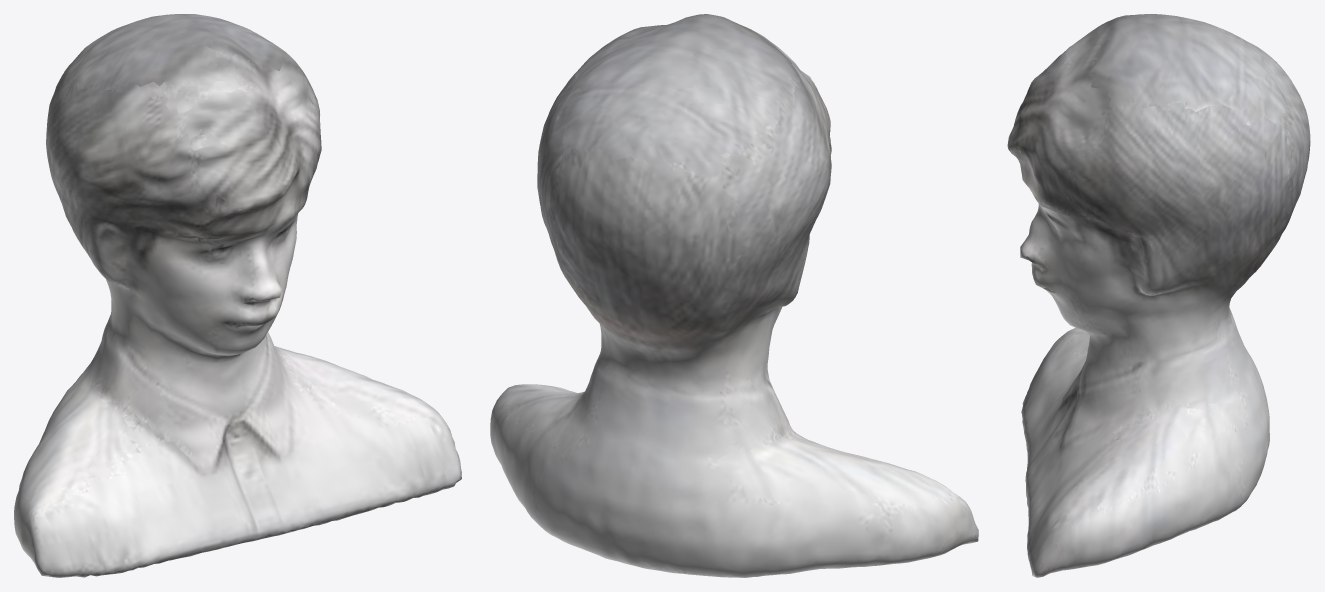
File: person.glb
3 views of the same model, side by side, from view 1: azimuth 30°, elevation 25°; view 2: azimuth 150°, elevation 25°; view 3: azimuth 270°, elevation 25° (orthographic). The views are drawn at different scales.
Visible parts, largest first — view 1: Person_SF3D; view 2: Person_SF3D; view 3: Person_SF3D.
Part boxes in pixels (<box>): Person_SF3D: <box>14,14,461,577</box>; Person_SF3D: <box>490,14,978,577</box>; Person_SF3D: <box>1007,14,1310,577</box>.
Size of the model in its own units: 0.4203 by 0.45 by 0.2677.
Materials: 1 (1 with a texture image).
